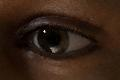eye: (37, 27, 70, 55)
